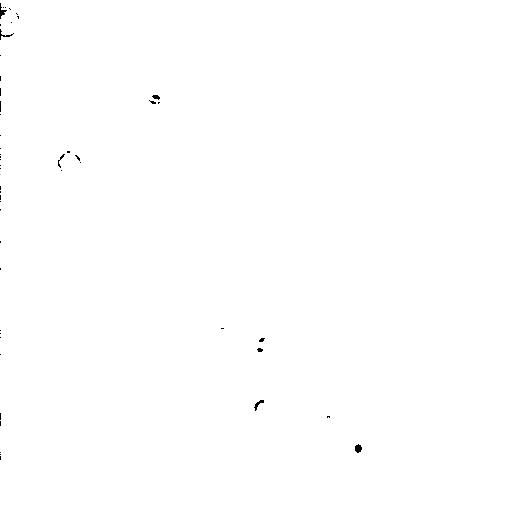micro-algae: (322, 210, 418, 305), (51, 348, 112, 410), (28, 262, 87, 324), (180, 95, 236, 159), (2, 410, 42, 455), (343, 426, 374, 463), (249, 328, 280, 359), (1, 2, 19, 38), (58, 152, 82, 178), (251, 393, 277, 416), (1, 78, 11, 102)
